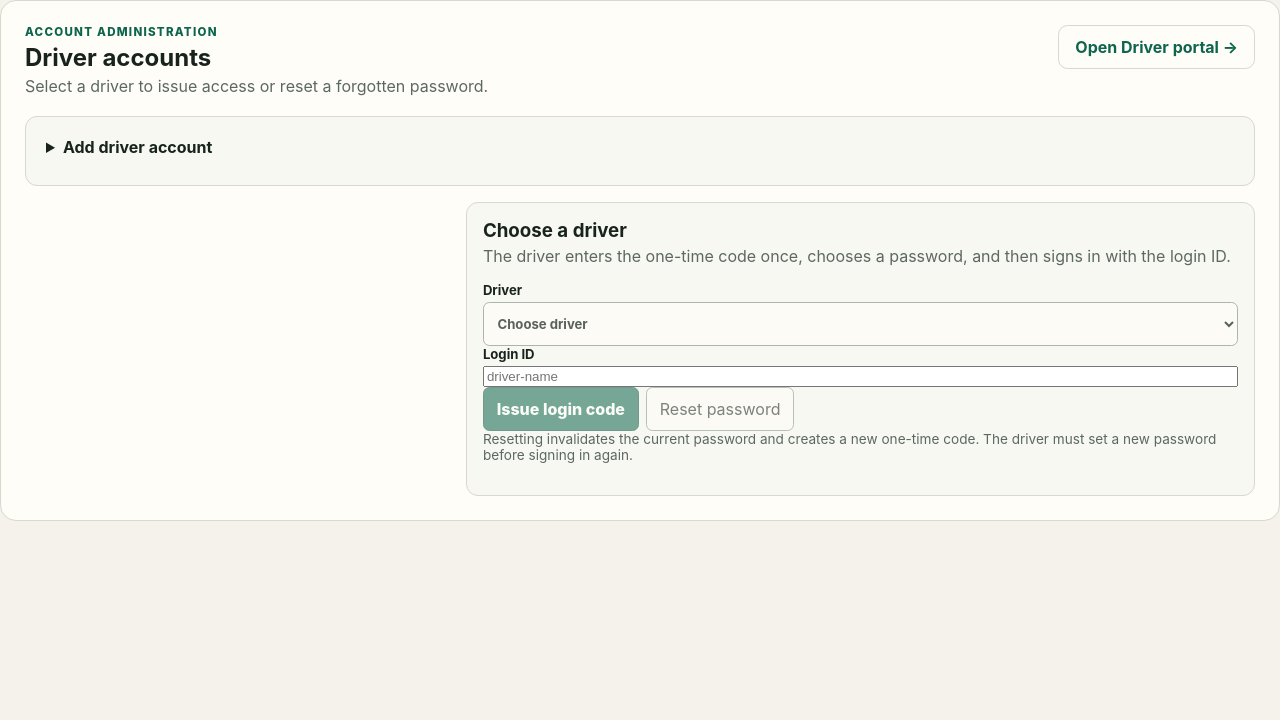
Test: driver account access › adds a new fleet driver and issues the first login code in one Command action
Click the heading "Add driver account". click: point(138, 147)
box: 63,137 -> 212,157
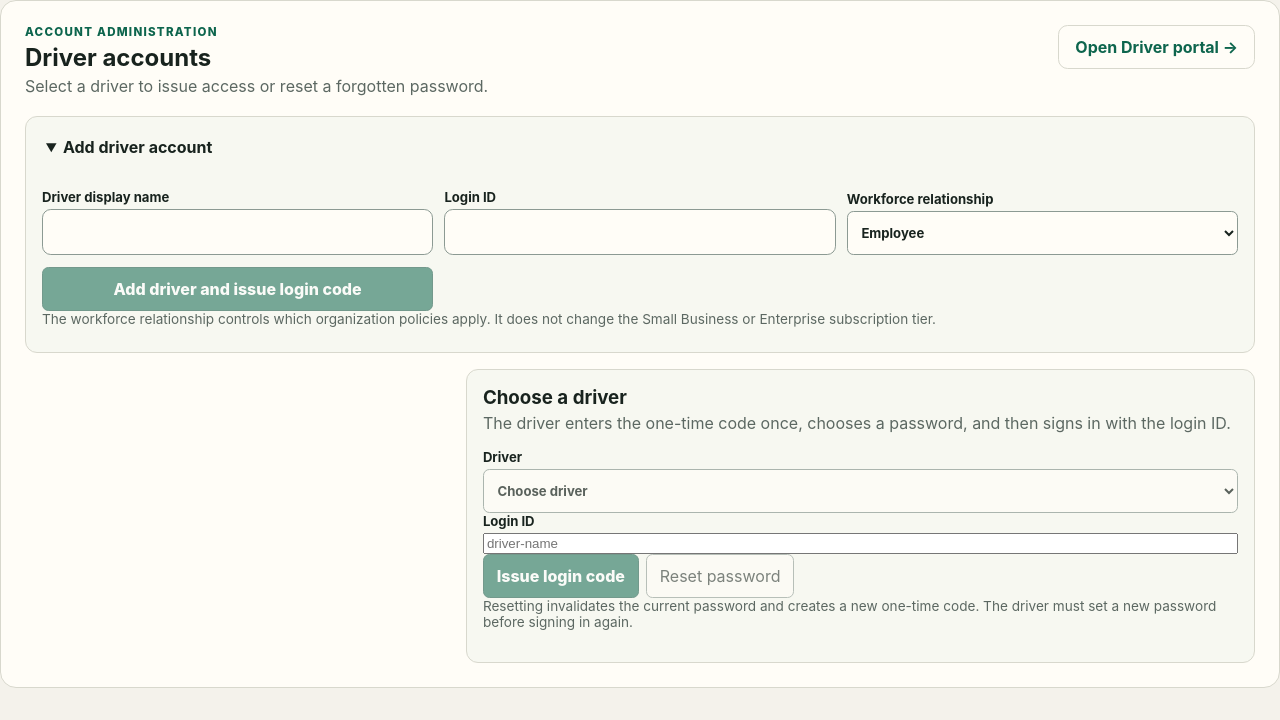
Type "River Driver" into the field labelled "Driver display name". click: point(238, 232)
box: 42,209 -> 433,255
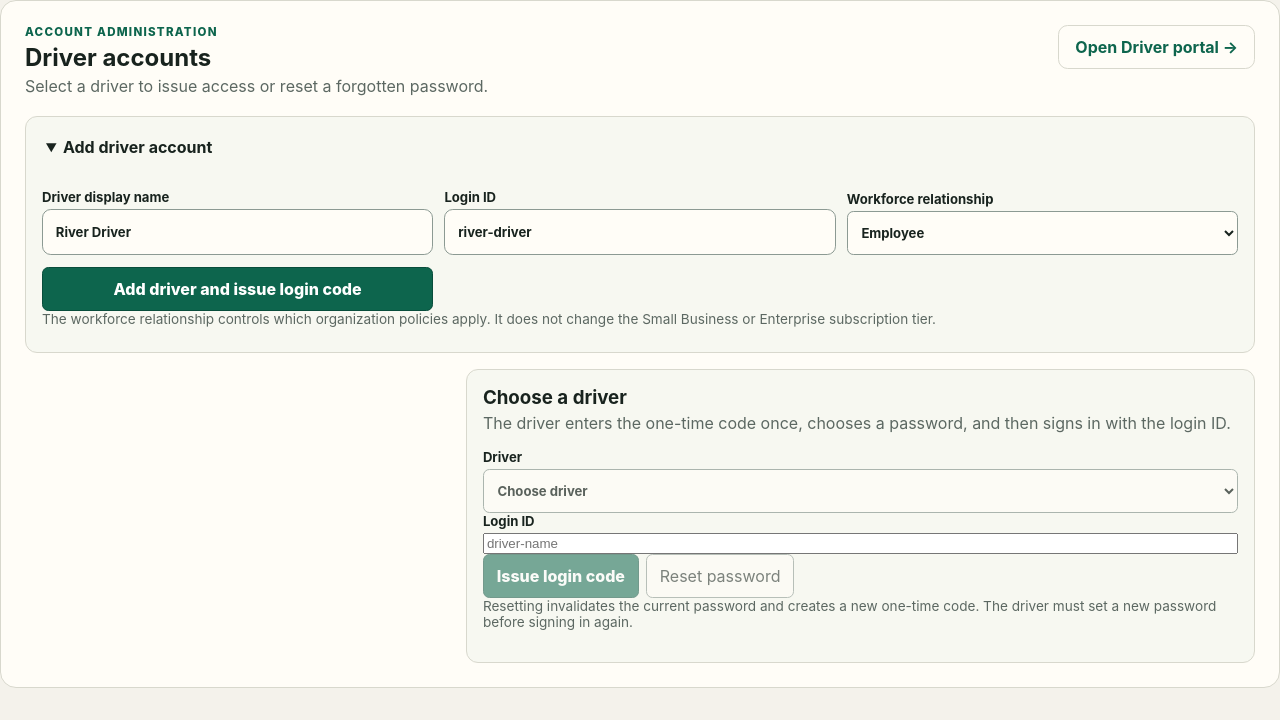
Check: the field labelled "Login ID" below "Add driver account" holds "river-driver", box 444,209 -> 836,255
Select "Contractor" in the dropdown labelled "Workforce relationship". click: point(1042, 233)
box: 847,211 -> 1238,255
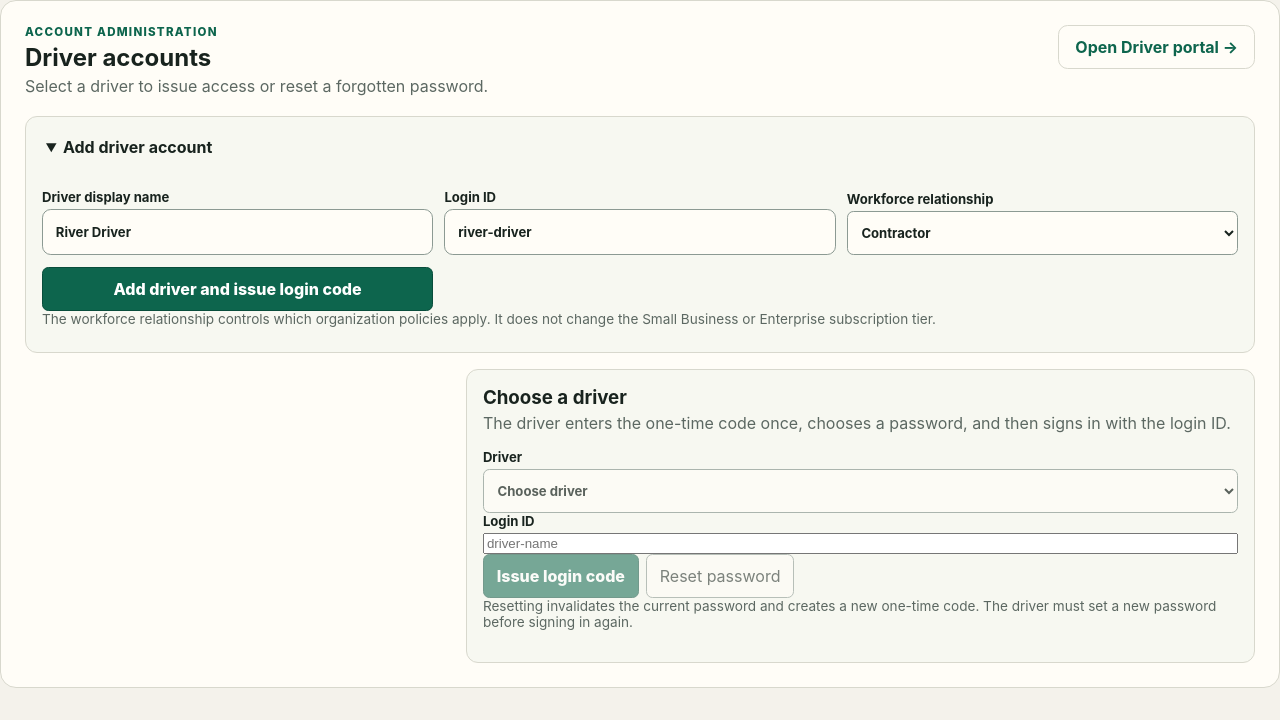
Click the button "Add driver and issue login code". click: point(238, 289)
box: 42,267 -> 433,311
(page scrolled)
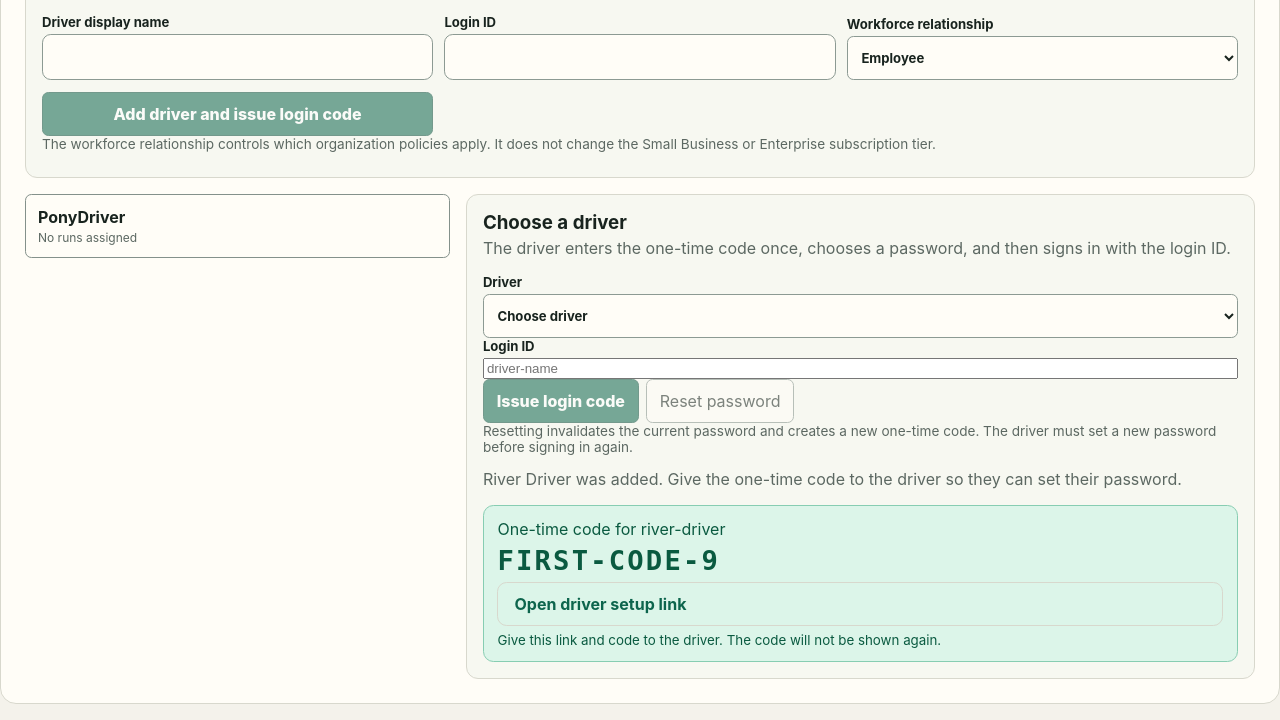
Check: the text "FIRST-CODE-9" is shown, box 498,545 -> 720,576
